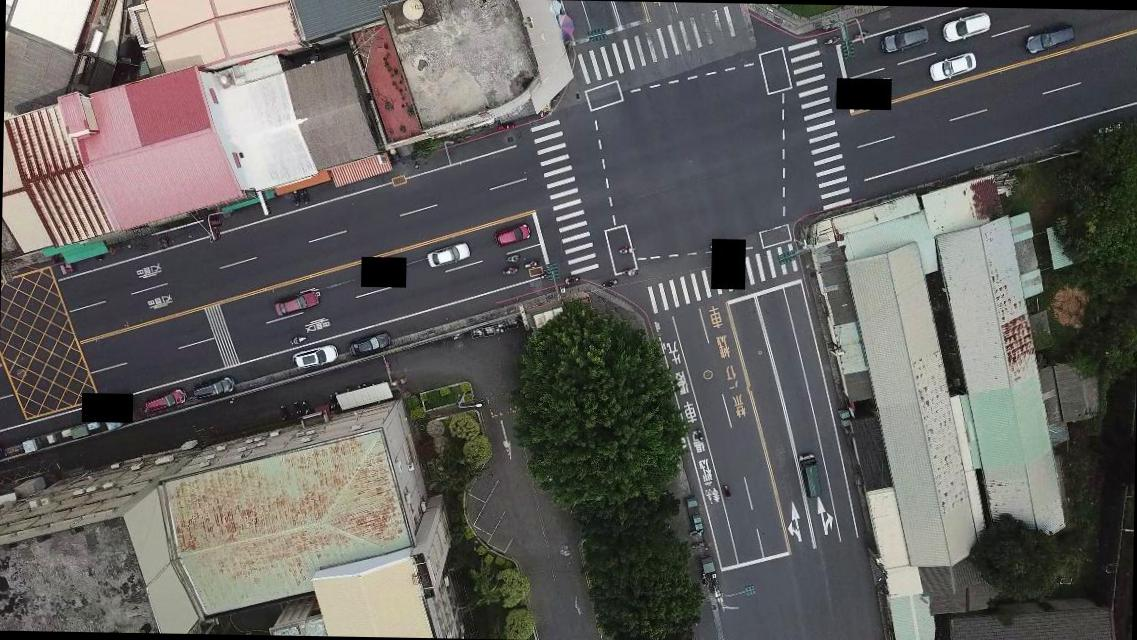vehicle: (938, 8, 992, 44), (1024, 23, 1078, 54), (880, 22, 930, 54), (929, 50, 977, 82), (192, 374, 236, 404), (274, 288, 321, 316), (292, 342, 339, 370), (144, 386, 190, 414), (425, 242, 472, 268), (350, 329, 394, 356), (798, 454, 823, 498), (494, 222, 532, 246)
